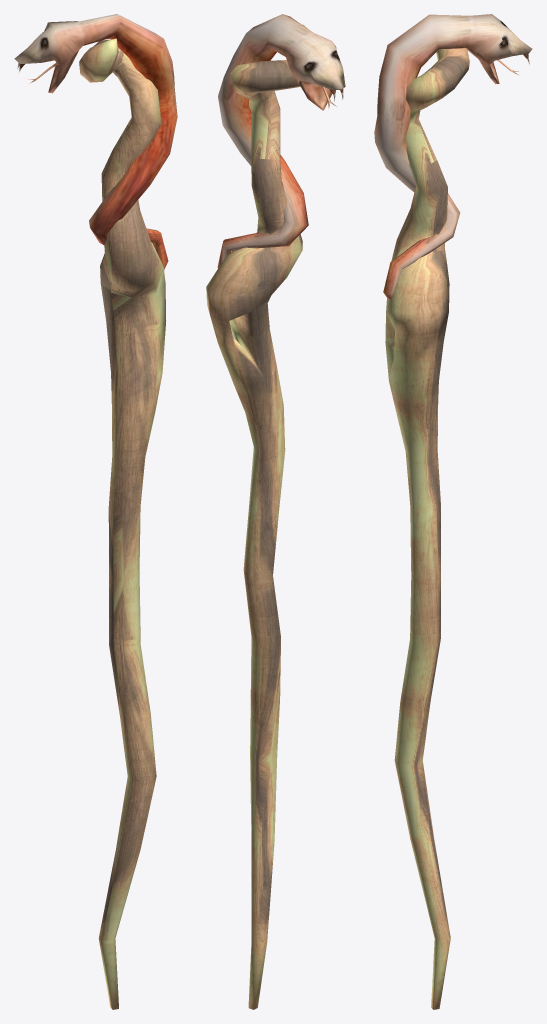
Rendered from weapons_serpent_staff.glb.
The picture shows the model from 3 angles, left to right: view 1: azimuth 90°, elevation 25°; view 2: azimuth 210°, elevation 25°; view 3: azimuth 270°, elevation 25°; orthographic projection. The views are drawn at different scales.
Parts seen in each view (by area): view 1: serpent_staff; view 2: serpent_staff; view 3: serpent_staff.
Part boxes in pixels (x1,y1,x2,y2): serpent_staff: (14, 14, 177, 1009); serpent_staff: (206, 14, 345, 1009); serpent_staff: (374, 14, 532, 1009).
Size of the model in its own units: 0.1354 by 1.31 by 0.1927.
Materials: 1 (1 with a texture image).
